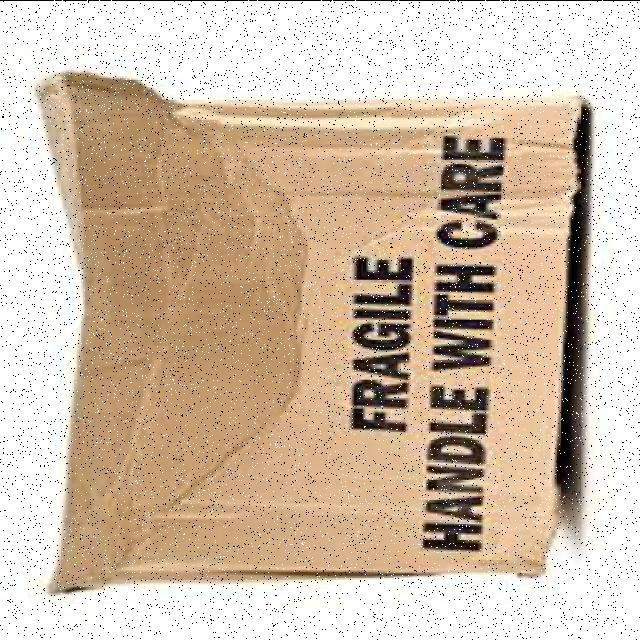defect: (29, 77, 591, 600)
